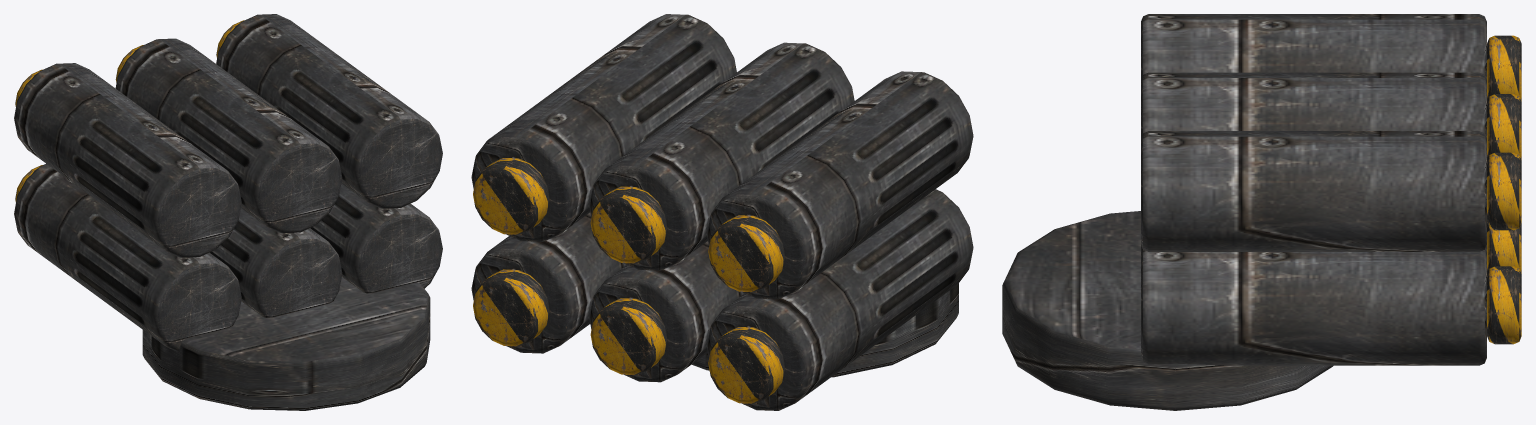
Rendered from weapon-pummeler.gltf.
The picture shows the model from 3 angles, left to right: view 1: azimuth 30°, elevation 25°; view 2: azimuth 150°, elevation 25°; view 3: azimuth 270°, elevation 25°; orthographic projection. The views are drawn at different scales.
Visible parts, largest first — view 1: Turret ring.003, Rocket pod.001, Rocket pod.005, Rocket pod.003, Rocket pod, Rocket pod.004, Rocket pod.002; view 2: Rocket pod.001, Rocket pod.005, Rocket pod.003, Rocket pod, Rocket pod.004, Rocket pod.002, Warhead.001, Warhead.003, Warhead.004, Warhead.002, Warhead.005, Warhead (+1 smaller); view 3: Rocket pod.005, Rocket pod.004, Turret ring.003, Rocket pod.001, Rocket pod.003, Warhead.005, Warhead.004, Warhead.001, Warhead.003, Warhead.002.
Part boxes in pixels (x1,y1,x2,y2): Turret ring.003: (142, 277, 430, 410); Rocket pod.001: (14, 63, 241, 257); Rocket pod.005: (216, 14, 442, 208); Rocket pod.003: (115, 38, 342, 233); Rocket pod: (14, 163, 241, 351); Rocket pod.004: (310, 183, 442, 293); Rocket pod.002: (210, 208, 342, 317); Rocket pod.001: (707, 71, 973, 299); Rocket pod.005: (471, 14, 736, 241); Rocket pod.003: (589, 42, 854, 270); Rocket pod: (707, 189, 973, 410); Rocket pod.004: (471, 212, 626, 353); Rocket pod.002: (589, 241, 744, 382); Warhead.001: (708, 215, 785, 292); Warhead.003: (590, 186, 667, 263); Warhead.004: (473, 269, 549, 346); Warhead.002: (590, 298, 667, 375); Warhead.005: (473, 158, 549, 234); Warhead: (708, 327, 785, 403); Rocket pod.005: (1141, 131, 1486, 251); Rocket pod.004: (1141, 249, 1486, 365); Turret ring.003: (1002, 211, 1333, 410); Rocket pod.001: (1141, 14, 1486, 79); Rocket pod.003: (1141, 72, 1486, 138); Warhead.005: (1487, 152, 1521, 230); Warhead.004: (1487, 266, 1521, 344); Warhead.001: (1487, 35, 1521, 101); Warhead.003: (1487, 94, 1521, 159); Warhead.002: (1487, 223, 1521, 273).
Size of the model in its own units: 0.92 by 0.67 by 1.2.
2 materials, 2 textured.
